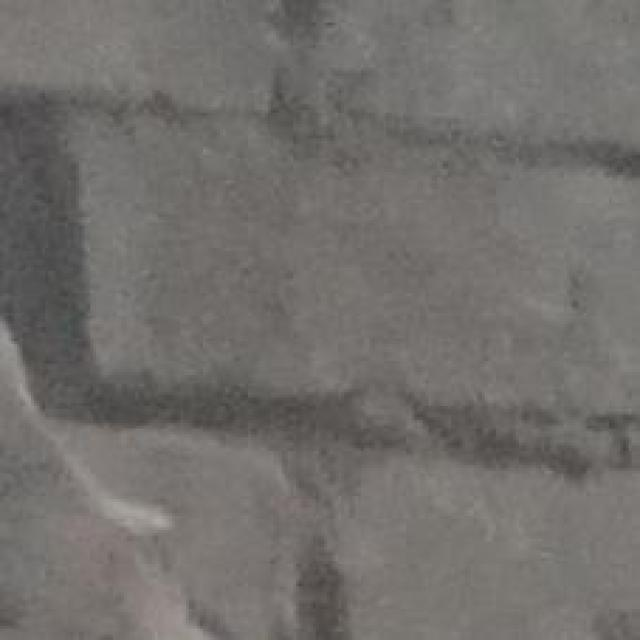Crack: (0, 41, 569, 613)
